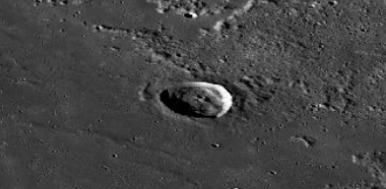crater: (126, 53, 270, 139)
